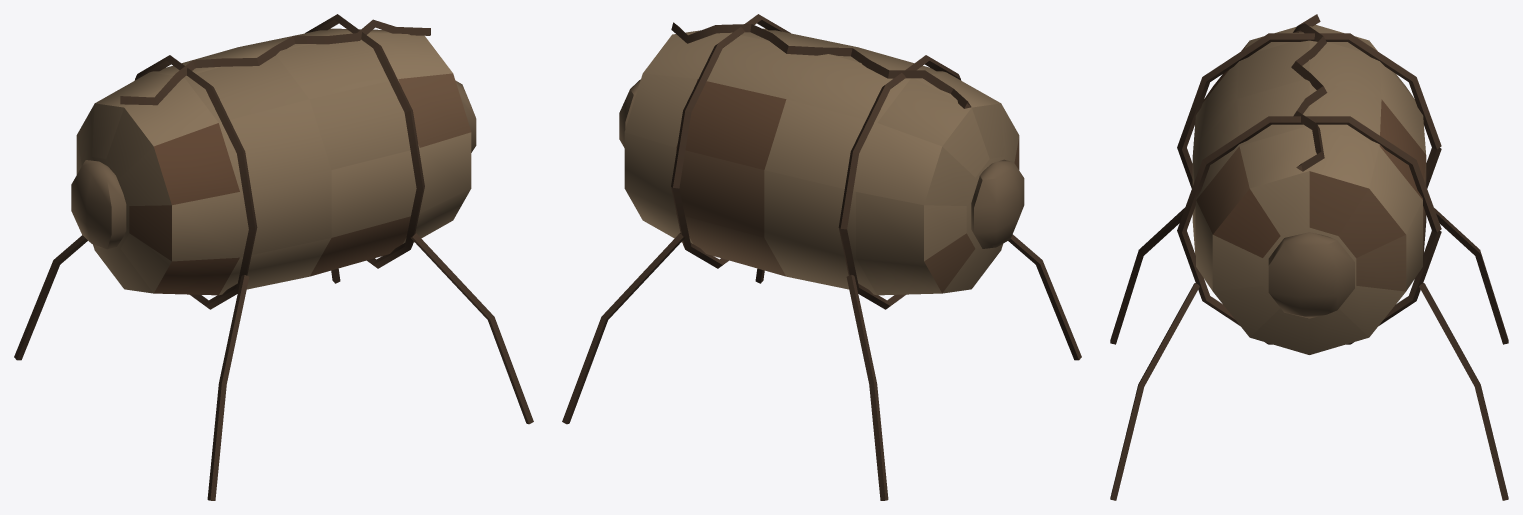
The model's file is tercio_al_anca.glb.
The picture shows the model from 3 angles, left to right: view 1: azimuth 30°, elevation 25°; view 2: azimuth 150°, elevation 25°; view 3: azimuth 270°, elevation 25°; orthographic projection.
Parts seen in each view (by area): view 1: TercioAlAnca; view 2: TercioAlAnca; view 3: TercioAlAnca.
Part boxes in pixels (bbox=[...]): TercioAlAnca: bbox=[14, 14, 533, 500]; TercioAlAnca: bbox=[562, 14, 1081, 500]; TercioAlAnca: bbox=[1110, 14, 1508, 500].
Size of the model in its own units: 0.6417 by 0.55 by 0.5687.
